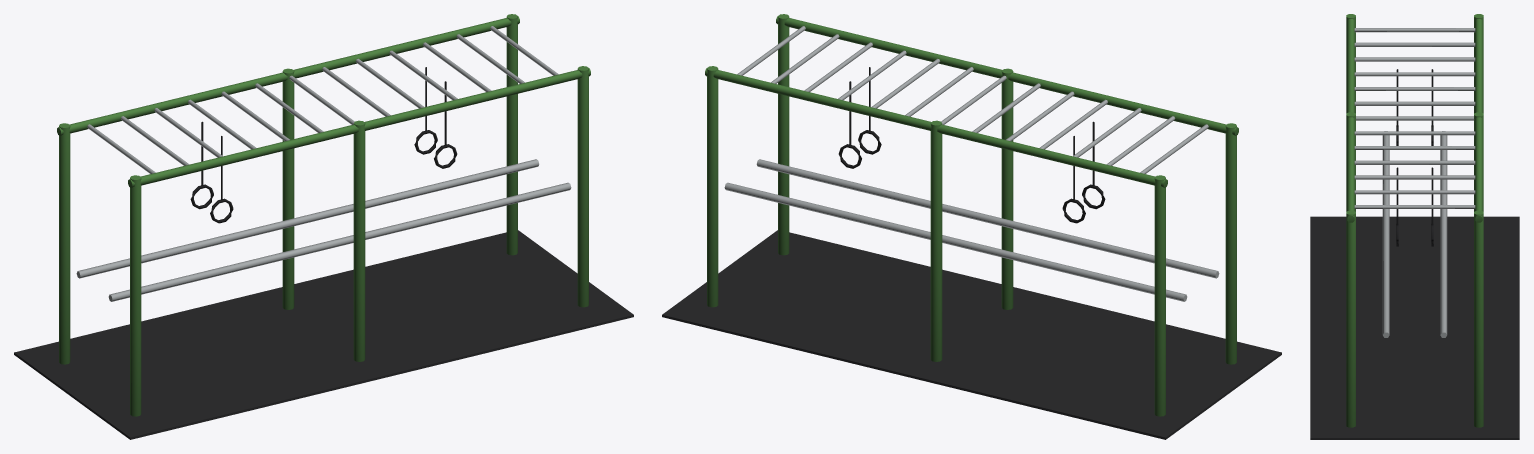
The model's file is PipeRackMIA.fbx.
The picture shows the model from 3 angles, left to right: view 1: azimuth 30°, elevation 25°; view 2: azimuth 150°, elevation 25°; view 3: azimuth 270°, elevation 25°; orthographic projection. The views are drawn at different scales.
Visible parts, largest first — view 1: PipeRackMIA; view 2: PipeRackMIA; view 3: PipeRackMIA.
Part boxes in pixels (x1,y1,x2,y2): PipeRackMIA: (14, 14, 633, 439); PipeRackMIA: (662, 14, 1281, 439); PipeRackMIA: (1310, 14, 1519, 439).
Size of the model in its own units: 4.5 by 2.04 by 1.8.
